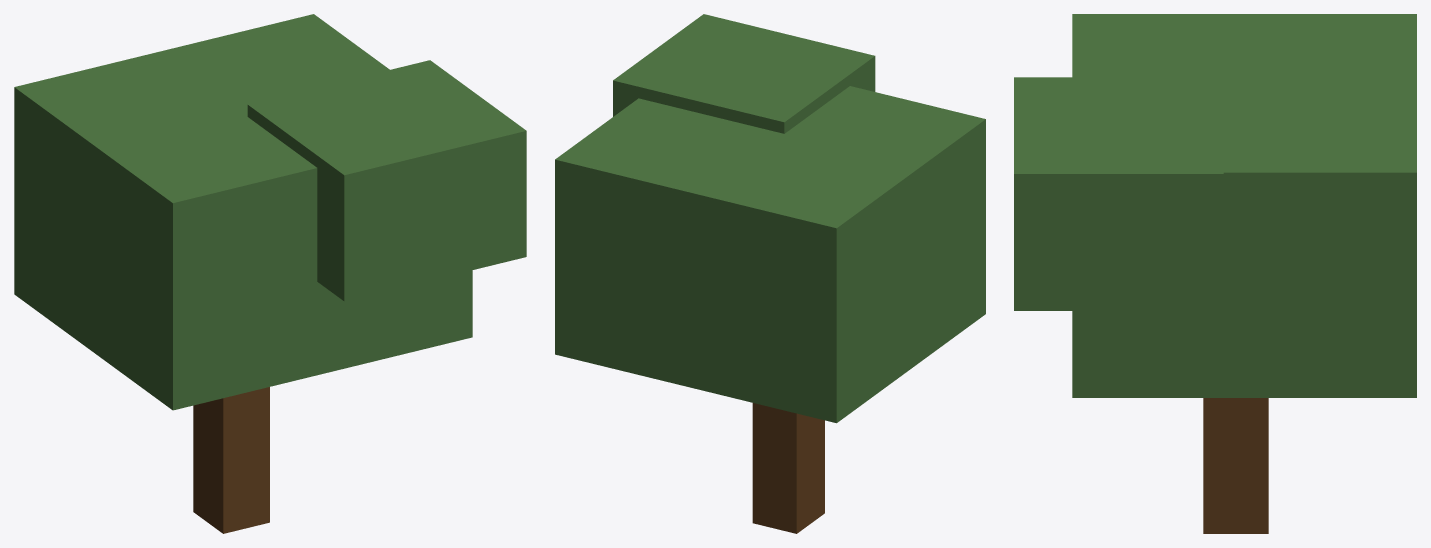
The model's file is trees2.gltf.
The picture shows the model from 3 angles, left to right: view 1: azimuth 30°, elevation 25°; view 2: azimuth 150°, elevation 25°; view 3: azimuth 270°, elevation 25°; orthographic projection. The views are drawn at different scales.
Visible parts, largest first — view 1: Cube.005, Cube.003, Cube.002; view 2: Cube.005, Cube.003, Cube.002; view 3: Cube.005, Cube.003, Cube.002.
Part boxes in pixels (x1,y1,x2,y2): Cube.005: [14, 14, 472, 410]; Cube.003: [247, 60, 526, 301]; Cube.002: [193, 387, 269, 533]; Cube.005: [555, 86, 985, 423]; Cube.003: [613, 14, 875, 133]; Cube.002: [752, 403, 824, 533]; Cube.005: [1072, 14, 1416, 397]; Cube.003: [1014, 77, 1223, 310]; Cube.002: [1203, 398, 1268, 533].
Bounding box in the file's own units: 0.368 × 0.4455 × 0.3616.
